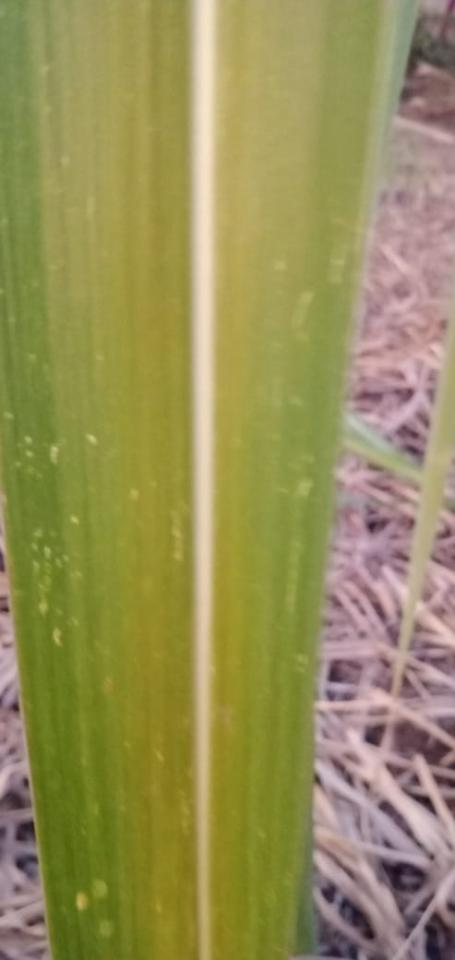Yellow: (116, 0, 199, 959), (214, 0, 274, 959)
